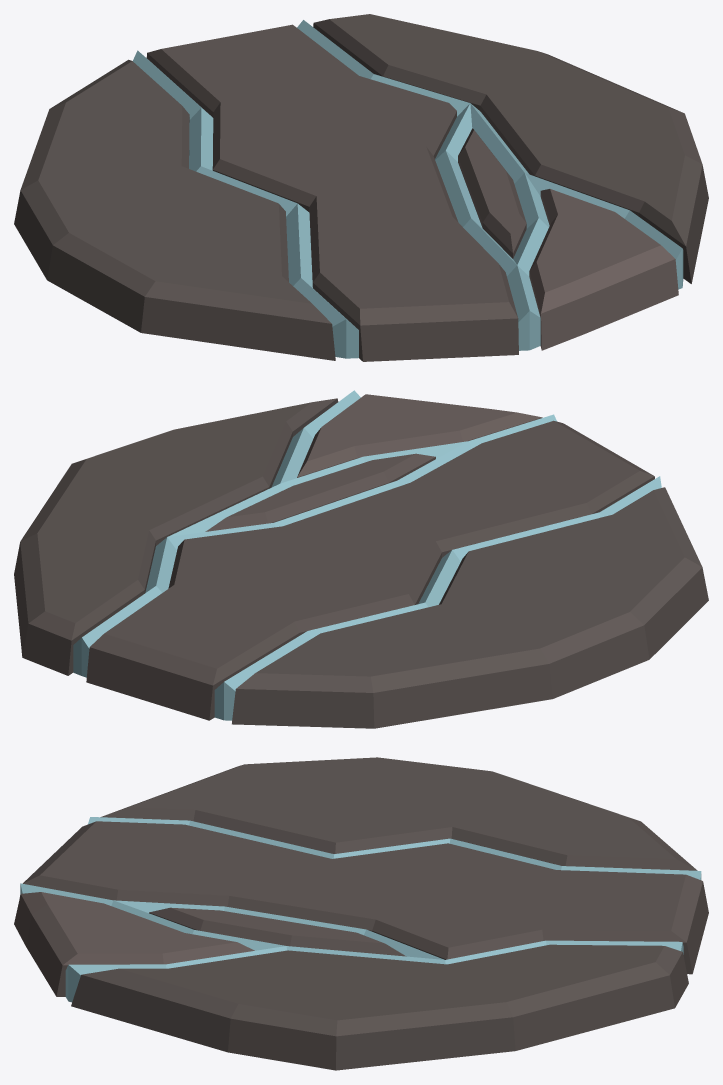
File: stage4_crystal_veined_slab.glb
3 renders of one model, top to bottom at view 1: azimuth 30°, elevation 25°; view 2: azimuth 150°, elevation 25°; view 3: azimuth 270°, elevation 25°, orthographic. The views are drawn at different scales.
Parts seen in each view (by area): view 1: slab; view 2: slab; view 3: slab.
Part boxes in pixels (x1,y1,x2,y2): slab: (14, 14, 708, 361); slab: (14, 390, 708, 728); slab: (14, 757, 708, 1070).
Bounding box in the file's own units: 0.9018 × 0.06 × 0.9379.
